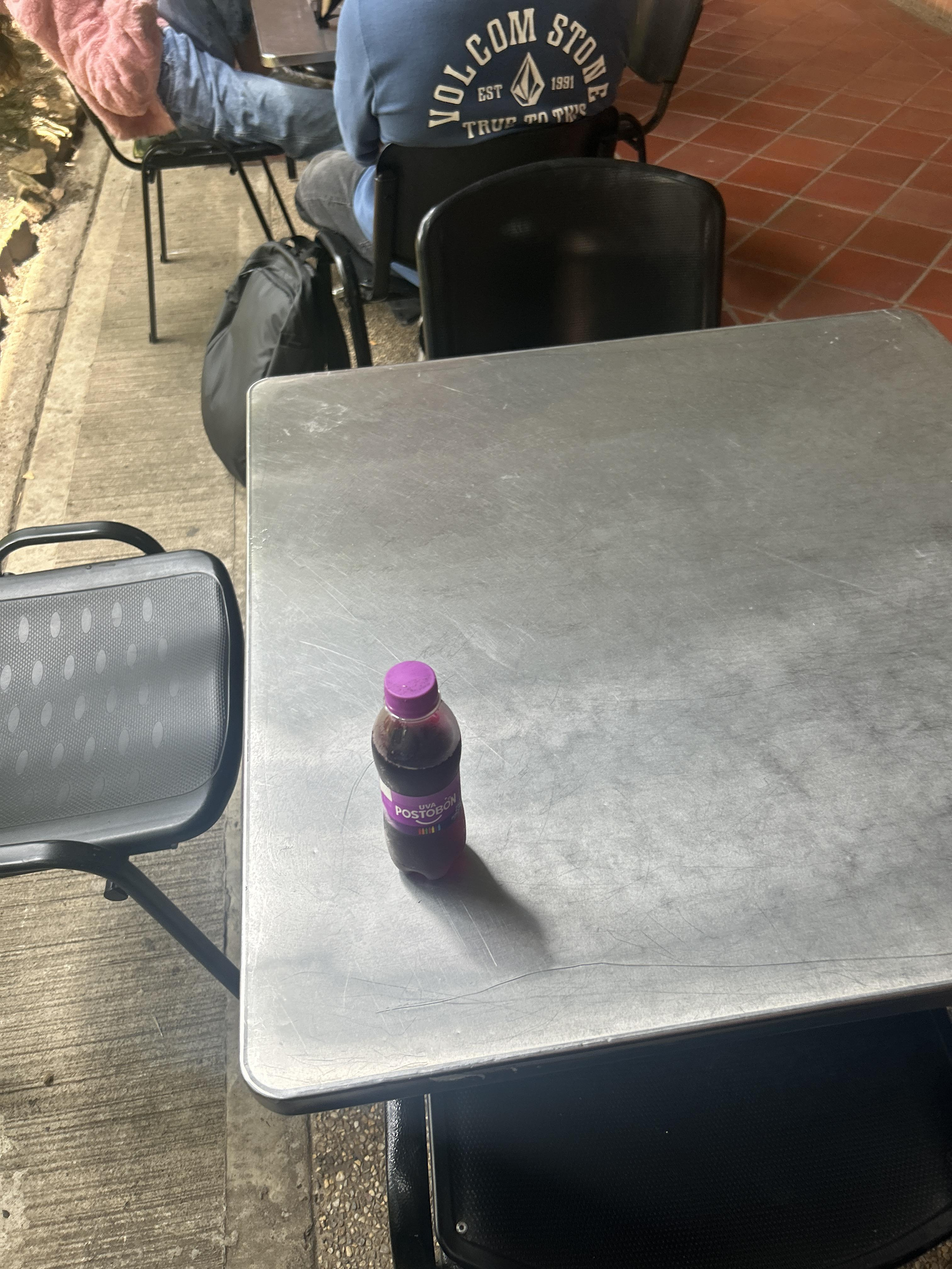uva: (371, 661, 466, 879)
